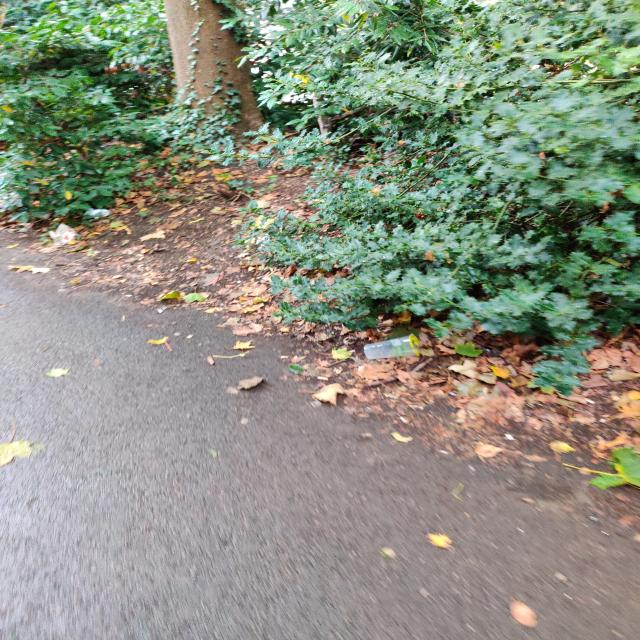litter: (362, 333, 423, 361), (46, 221, 79, 248), (81, 207, 112, 220)
